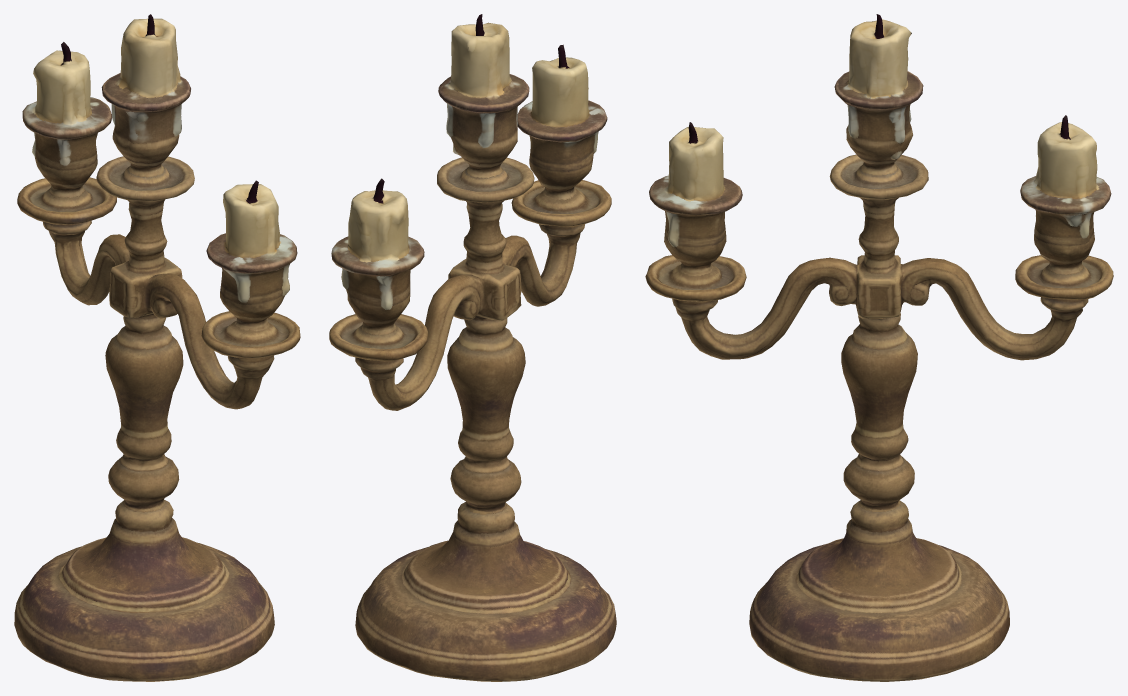
Rendered from candelabra.glb.
The picture shows the model from 3 angles, left to right: view 1: azimuth 30°, elevation 25°; view 2: azimuth 150°, elevation 25°; view 3: azimuth 270°, elevation 25°; orthographic projection.
Bounding box in the file's own units: 0.3859 × 1.01 × 0.6888.
1 material, 1 textured.
